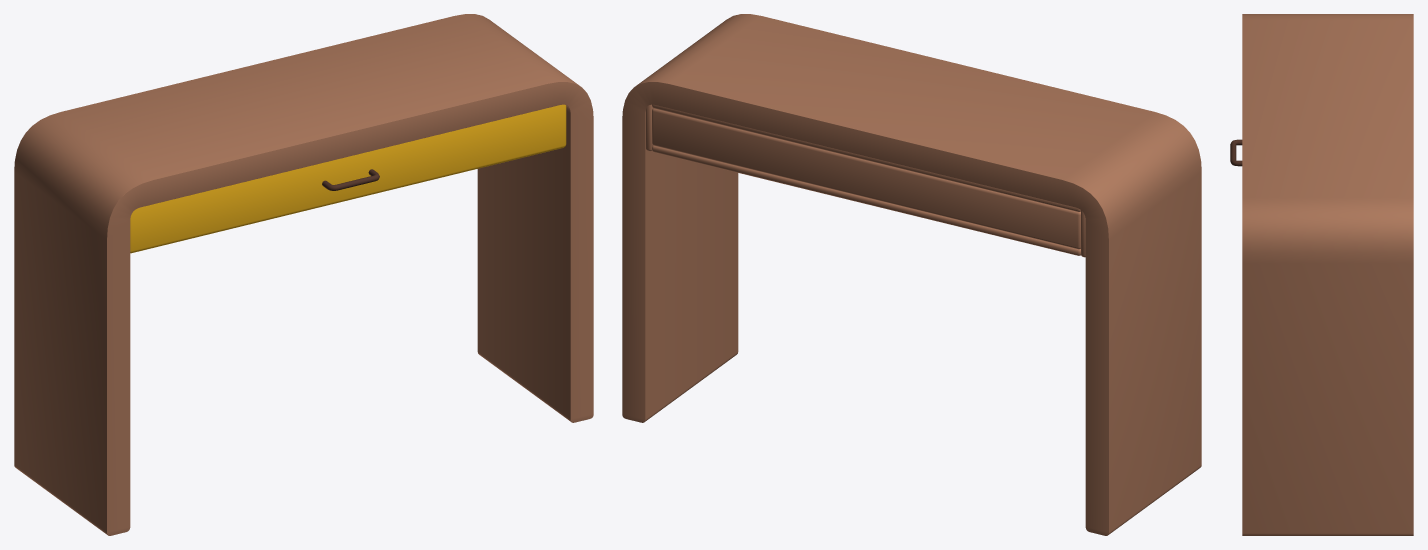
File: aparador_u_gaveta_marrom.glb
3 views of the same model, side by side, from view 1: azimuth 30°, elevation 25°; view 2: azimuth 150°, elevation 25°; view 3: azimuth 270°, elevation 25° (orthographic). The views are drawn at different scales.
Visible parts, largest first — view 1: aparador_u_gaveta_marrom, gaveta_1; view 2: aparador_u_gaveta_marrom; view 3: aparador_u_gaveta_marrom, gaveta_1.
Part boxes in pixels (x1,y1,x2,y2): aparador_u_gaveta_marrom: [14, 14, 593, 535]; gaveta_1: [130, 104, 566, 253]; aparador_u_gaveta_marrom: [622, 14, 1201, 535]; aparador_u_gaveta_marrom: [1242, 14, 1413, 535]; gaveta_1: [1230, 139, 1242, 166].
Size of the model in its own units: 1.15 by 0.78 by 0.4065.
Materials: 1 (1 with a texture image).
